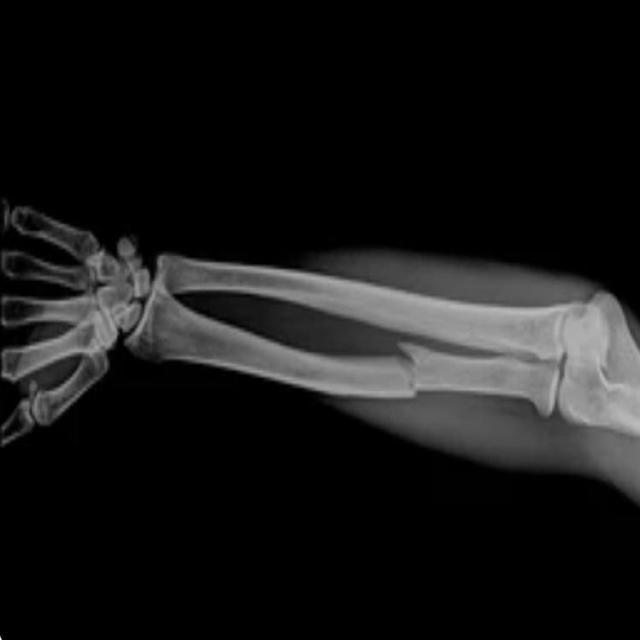bone: (378, 325, 440, 409)
